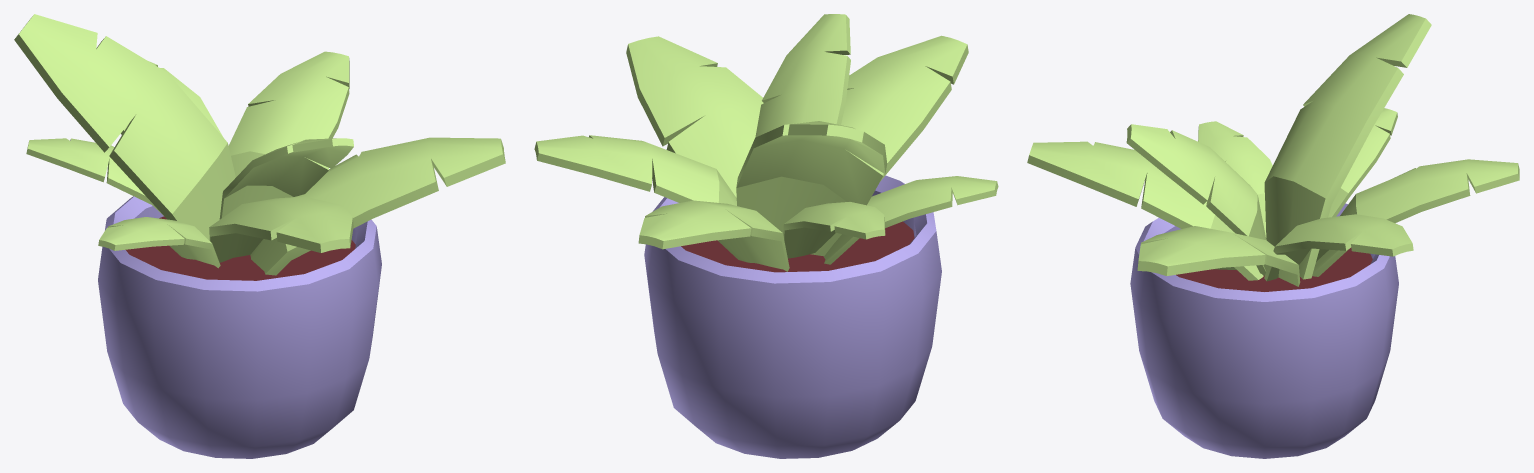
The model's file is Pot1.fbx.
The picture shows the model from 3 angles, left to right: view 1: azimuth 30°, elevation 25°; view 2: azimuth 150°, elevation 25°; view 3: azimuth 270°, elevation 25°; orthographic projection. The views are drawn at different scales.
Parts seen in each view (by area): view 1: Pot; view 2: Pot; view 3: Pot.
Part boxes in pixels (<box>): Pot: <box>14,14,505,458</box>; Pot: <box>534,14,998,458</box>; Pot: <box>1027,14,1519,458</box>.
Bounding box in the file's own units: 37.29 × 44.73 × 34.97.
